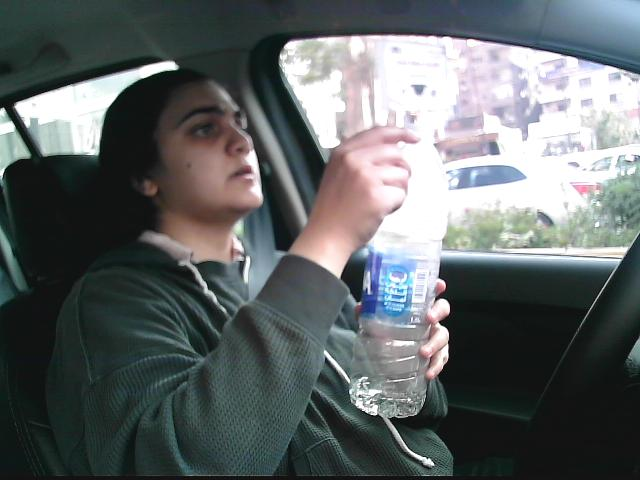Drinking: (346, 117, 452, 418)
